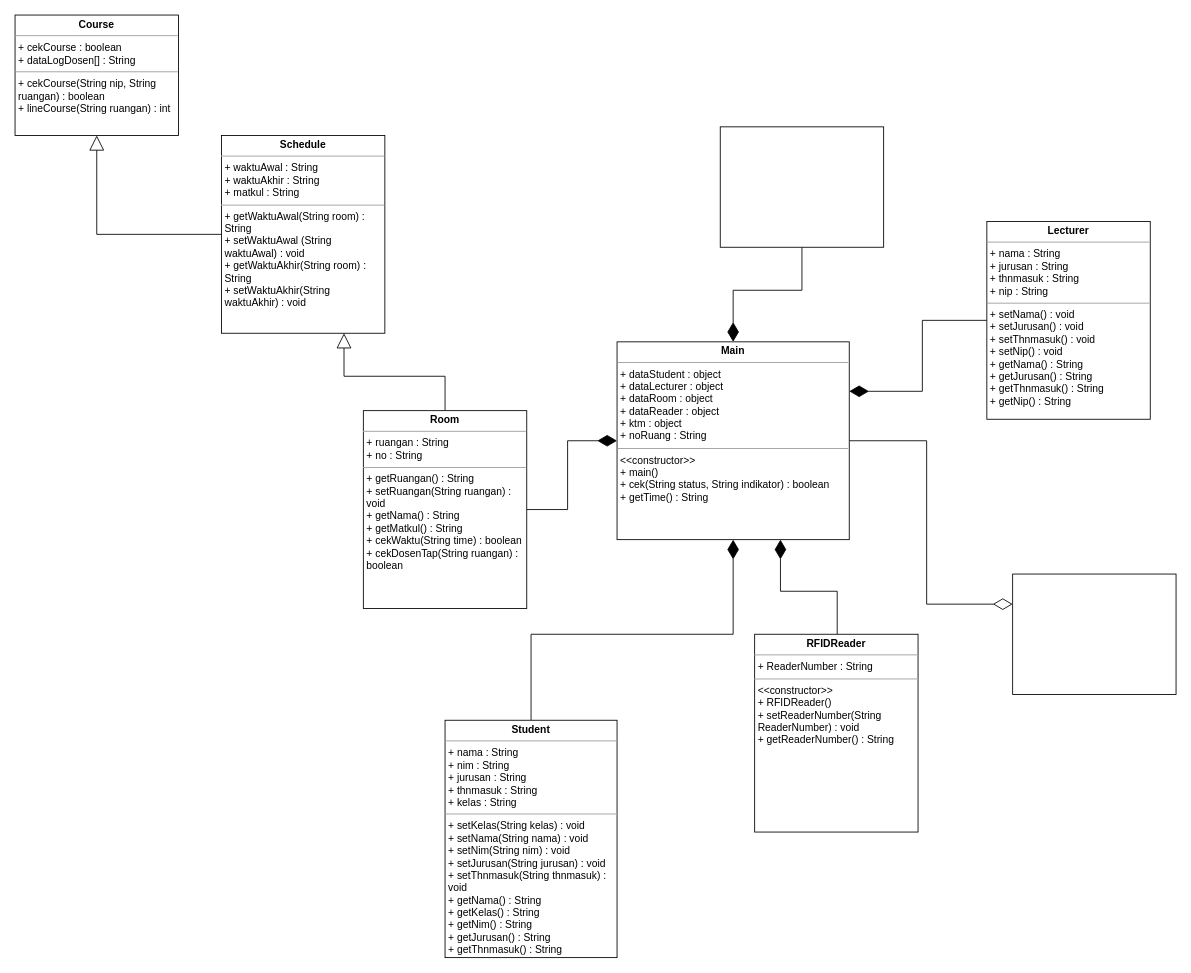
Some shapes in this 1191 by 973 pixel diagram are drawn without their labels. Each missing label, with the box of its shape:
History + table : object <<constructor>> + history(): (1012, 573, 1176, 694)
IDCard + statusOn : String <<constructor>> + view(): (719, 126, 884, 247)
